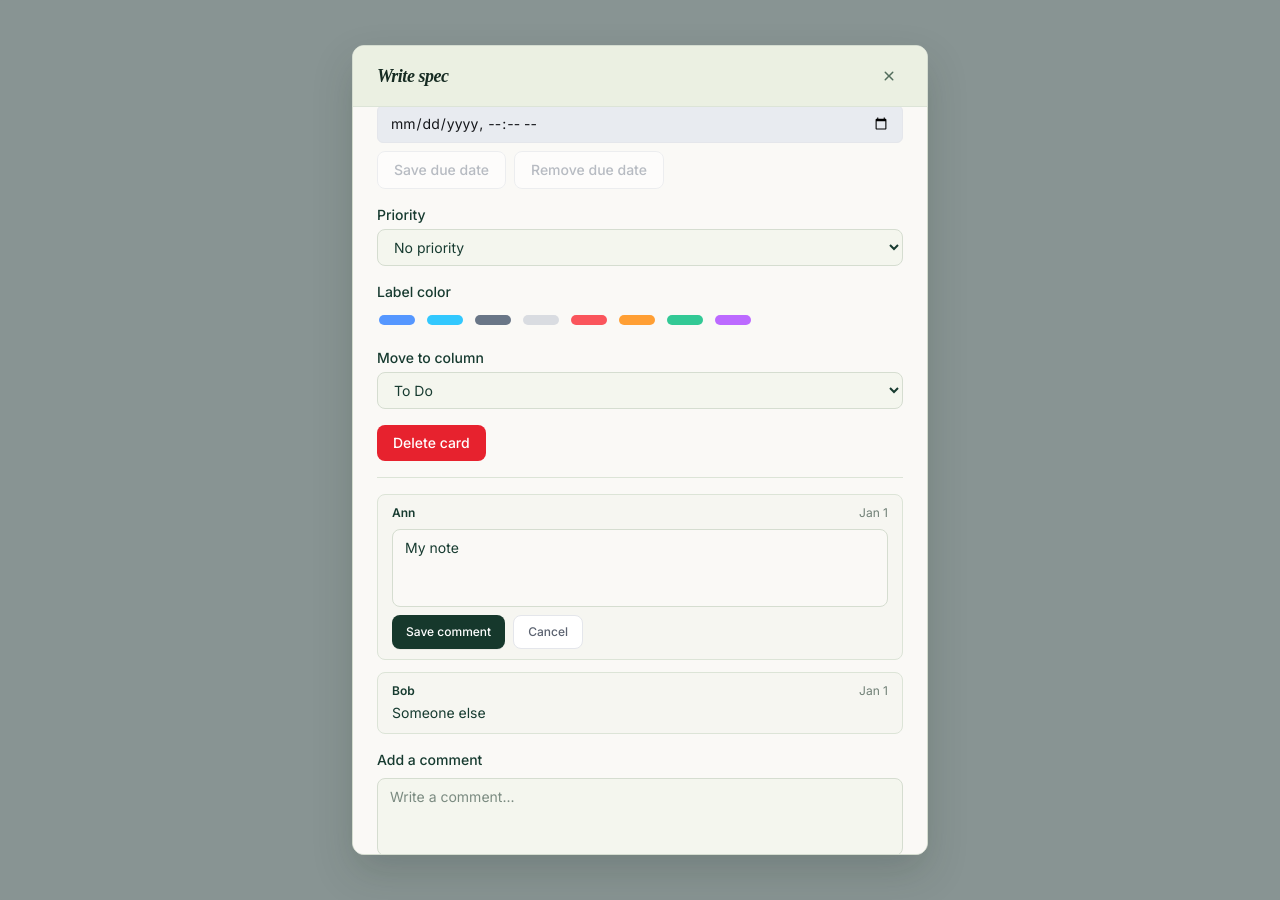
Scenario: CardDetailModal › edits an own comment with exactly {body} and shows the edited badge
Earlier steps of the test are not shown.
(page scrolled)
Replace the text in the text box named "Edit comment text" with "My note v2" at x=640, y=568, box [392,529,888,607]
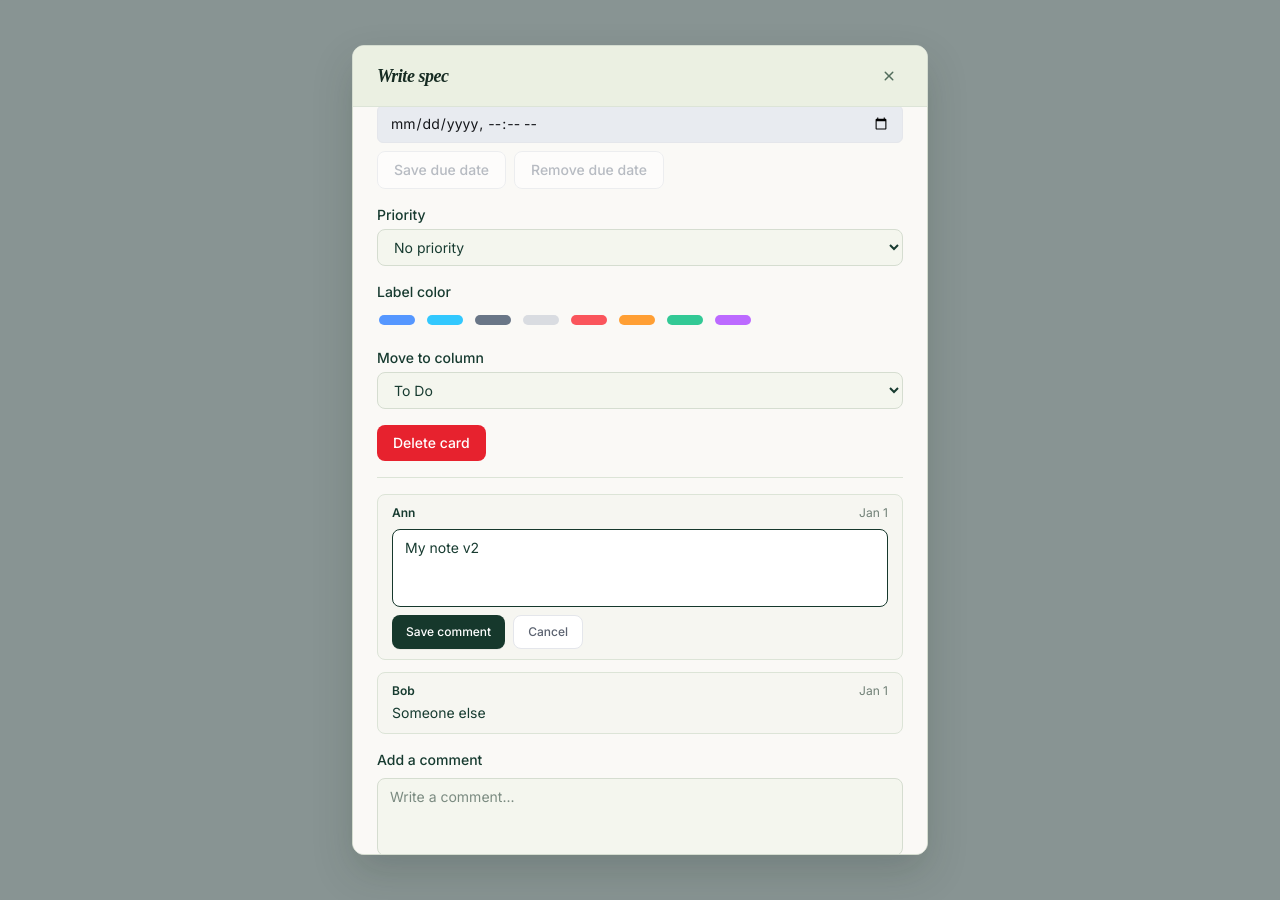
Click the button "Save comment" at x=449, y=632, box [392,615,505,649]
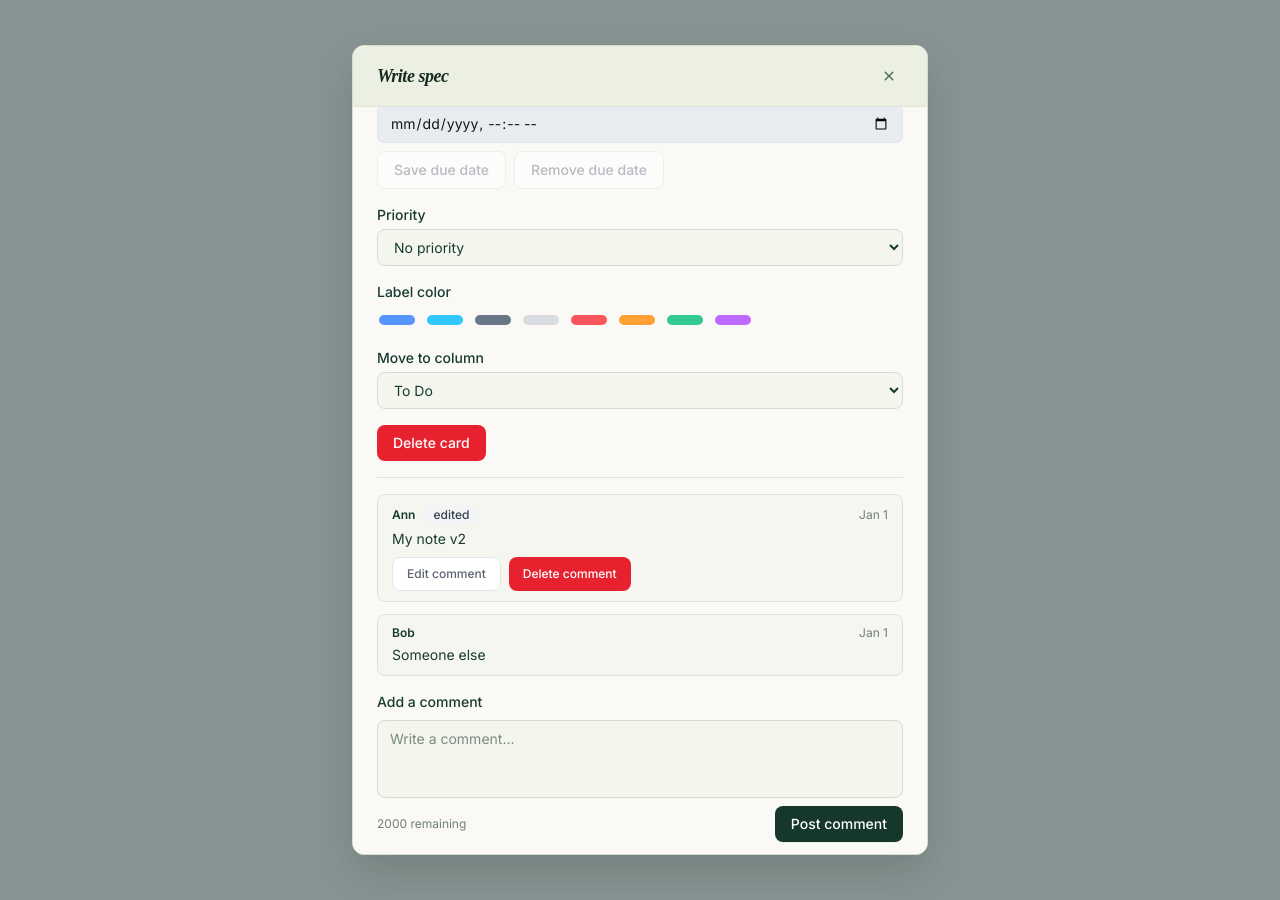
Expected: the text "My note v2" is shown, [392,530,466,547]
Expected: the text "edited" is shown, [423,505,479,525]
